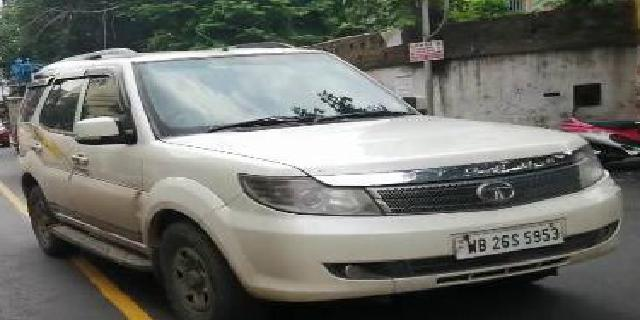Car: (16, 35, 624, 319)
